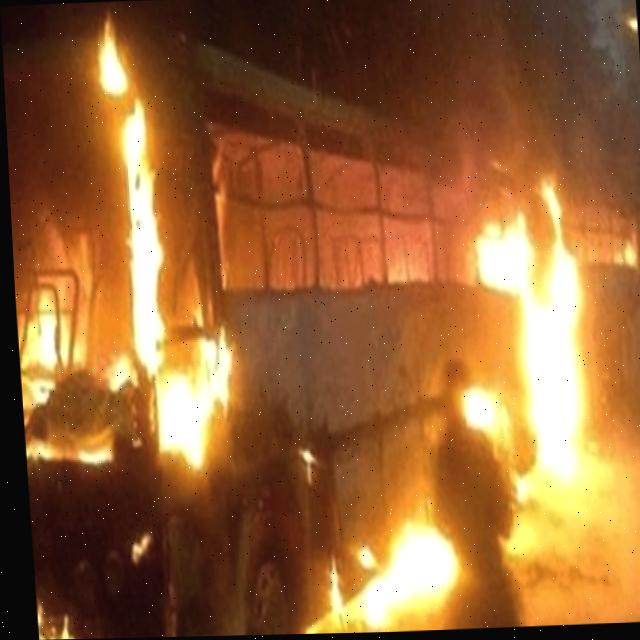fire: (99, 10, 232, 478), (457, 178, 581, 476), (344, 509, 460, 634), (15, 288, 88, 416)
